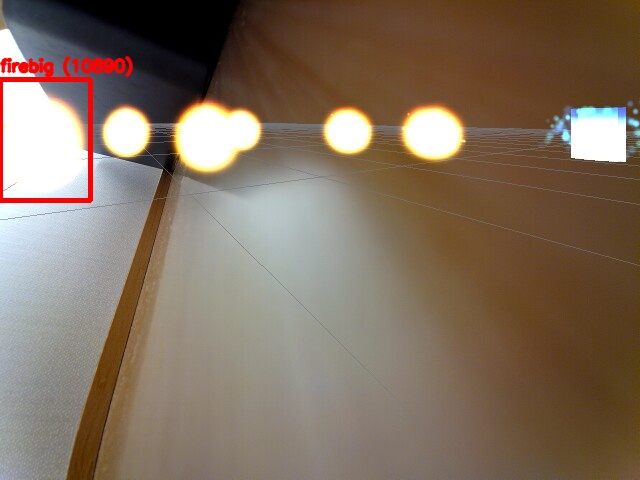firebig: (0, 79, 90, 200)
